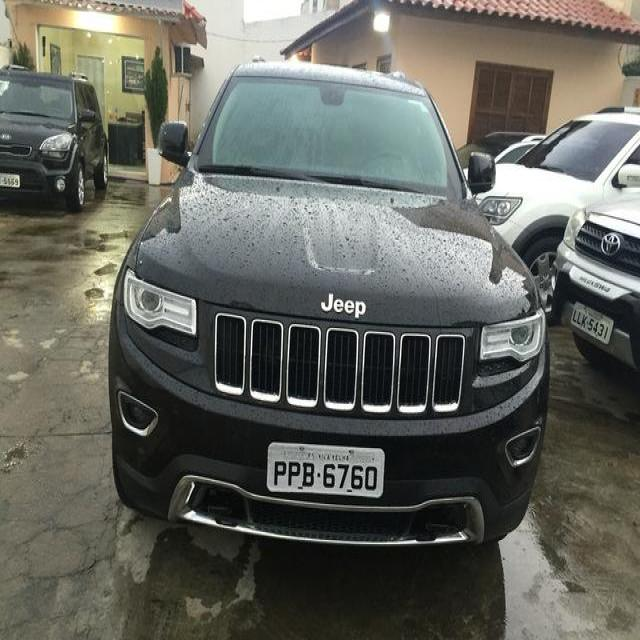Placa: (263, 437, 386, 505)
